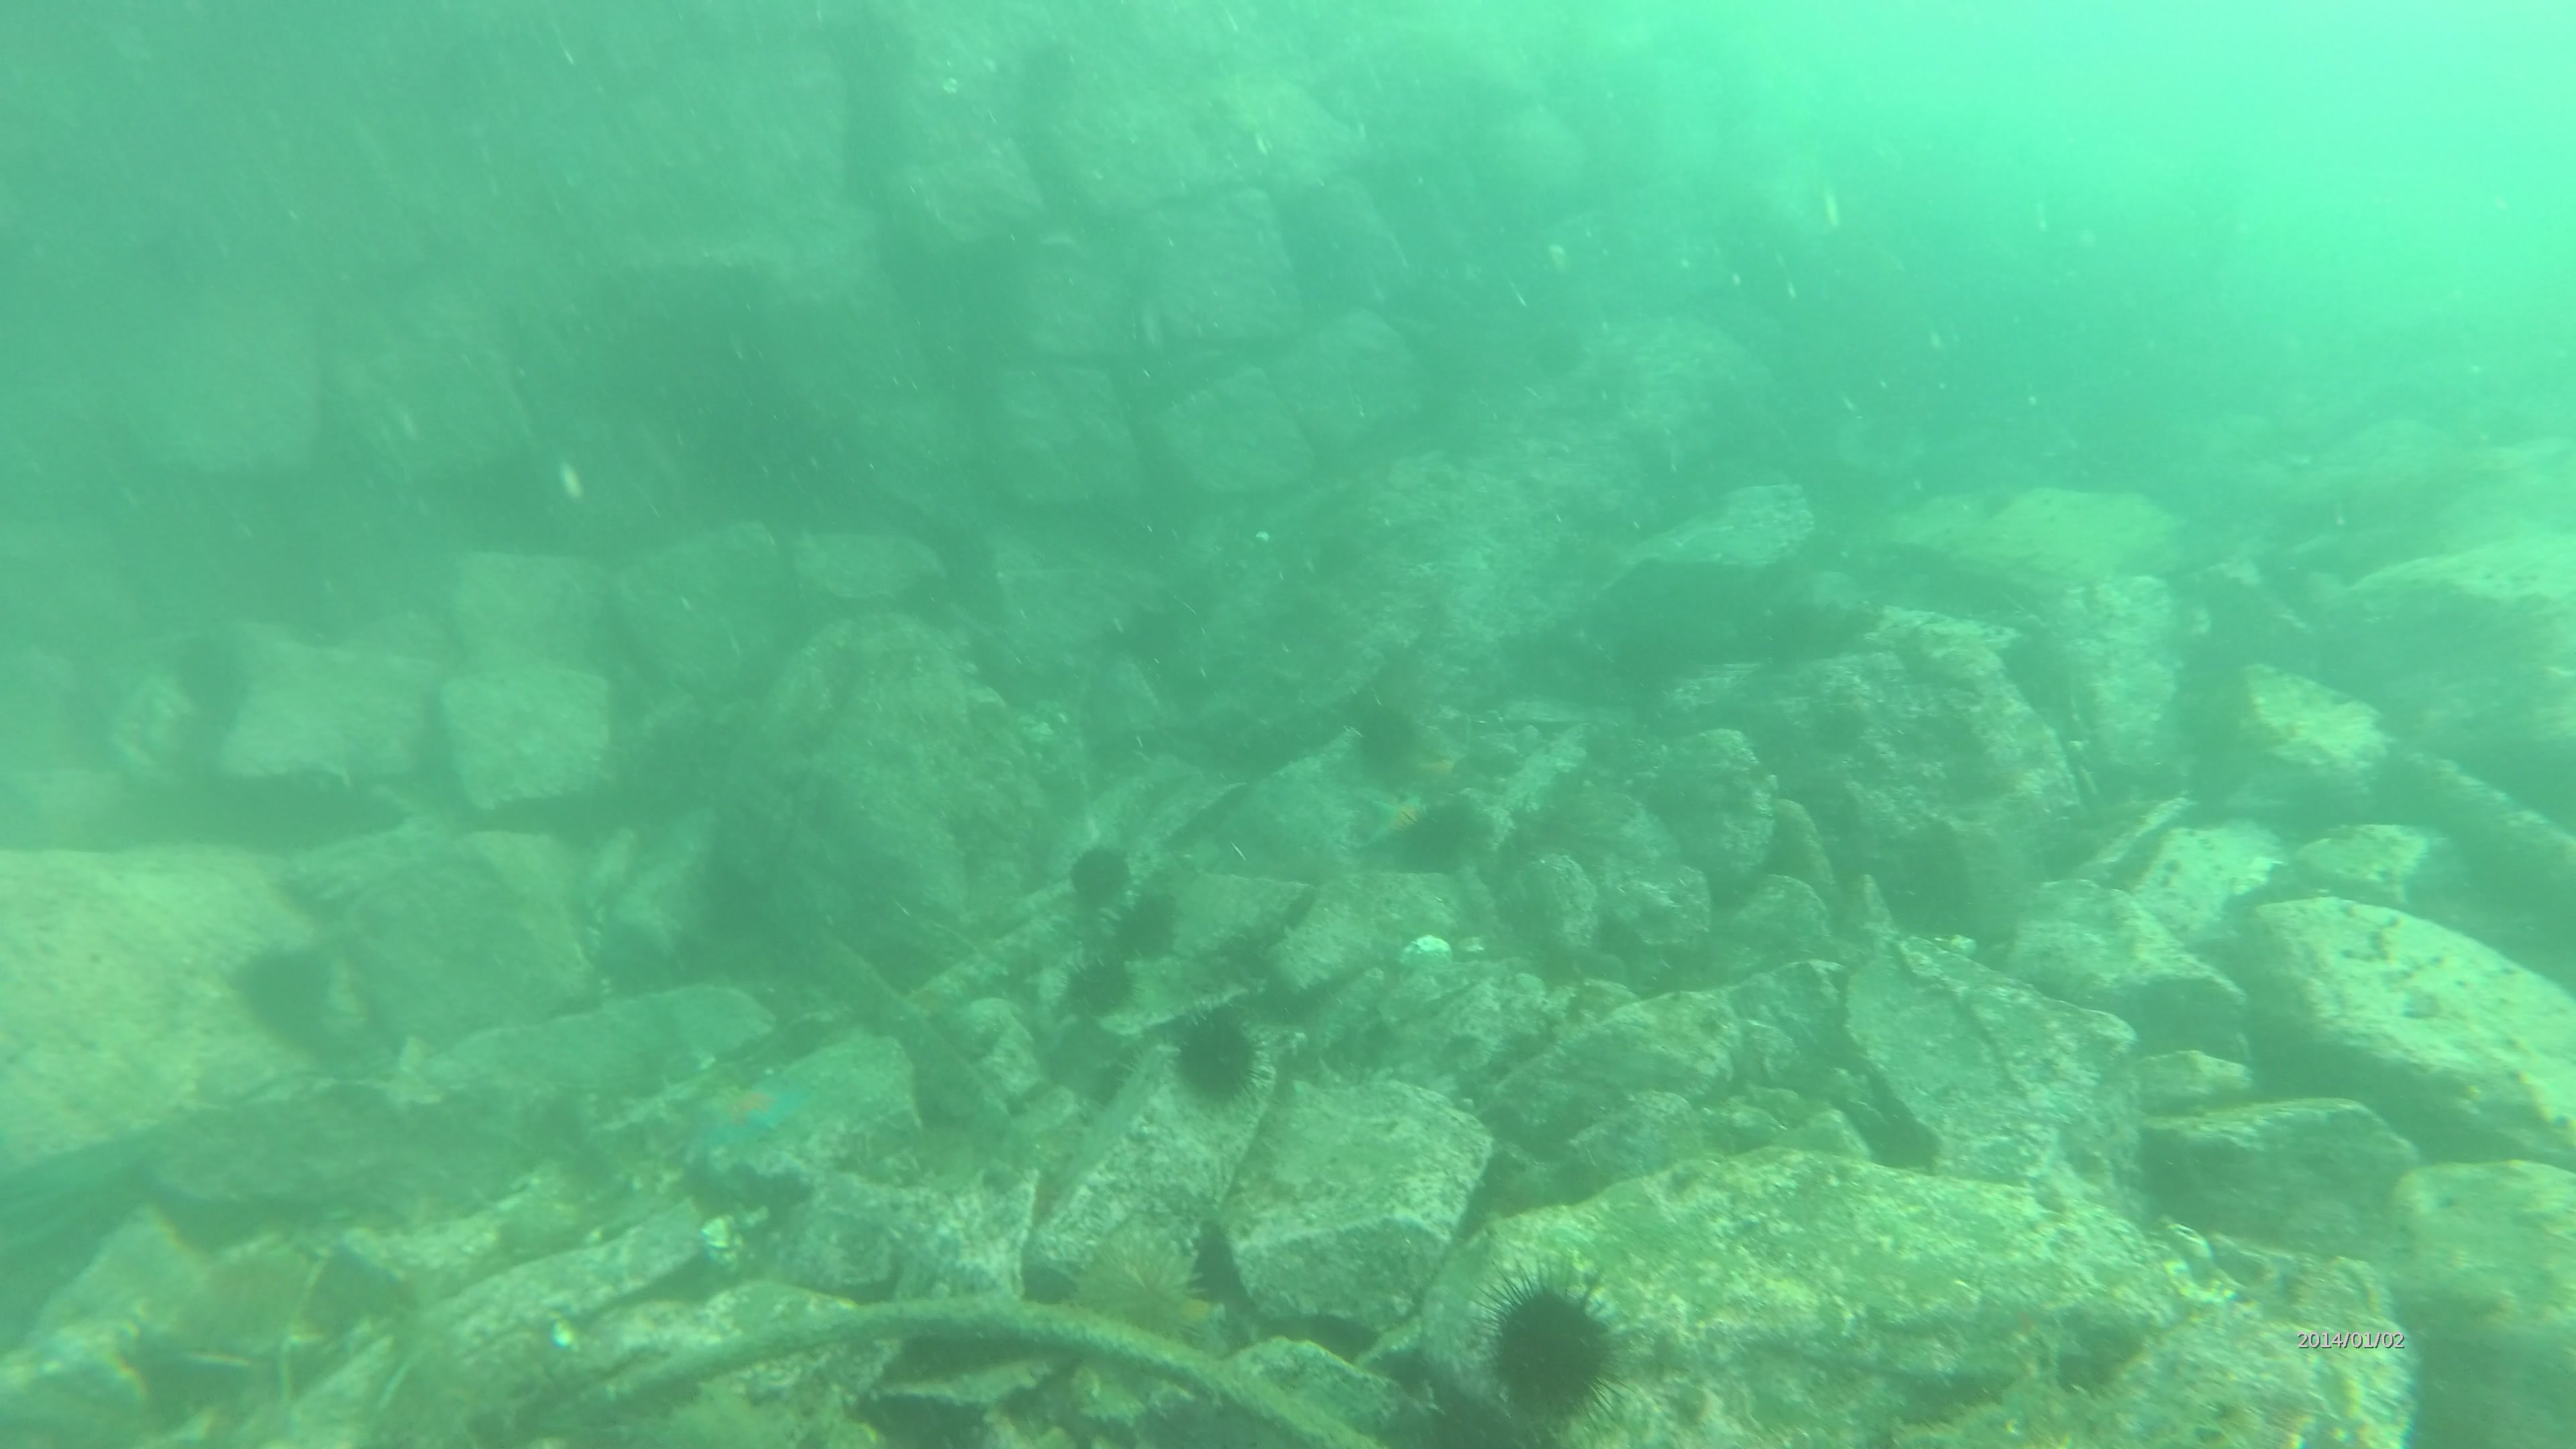echinus: (1460, 1265, 1631, 1437), (1085, 1246, 1203, 1352), (186, 1246, 324, 1336), (232, 938, 347, 1035), (1168, 998, 1269, 1097), (170, 637, 253, 717), (1049, 945, 1132, 1021), (1116, 892, 1177, 959), (1067, 842, 1127, 902)
starfish: (692, 1083, 805, 1155), (1361, 782, 1444, 858)
